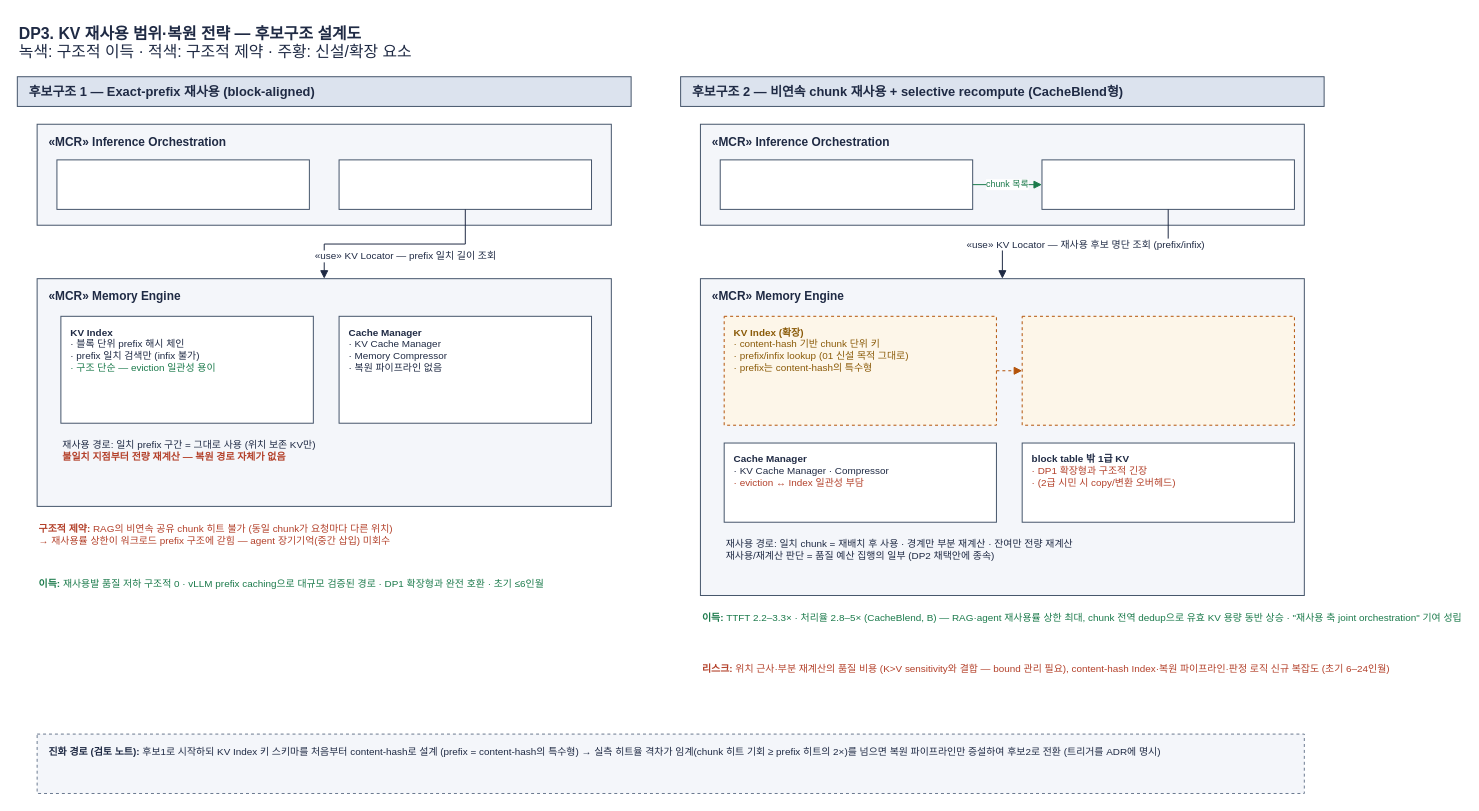
Some shapes in this 1479 by 811 pixel diagram are drawn without their labels. The box of each missing label's shape, as (x1, y1, x2, y2) in pixels:
KV-aware Router prefix 일치 길이만 조회: (338, 159, 592, 209)
KV-aware Router 재사용 후보 명단 생성: (1041, 159, 1294, 209)
Retrieval Engine (RAG) chunk 목록 → 재사용 판정에 미사용: (56, 159, 309, 209)
Retrieval Engine (RAG) retrieval chunk 목록 생성: (719, 159, 973, 209)
복원 파이프라인 (신설) · 위치 불일치 chunk 재배치 · 경계 토큰 selective recompute (토큰의 10–15%만 재계산): (1021, 315, 1294, 425)
